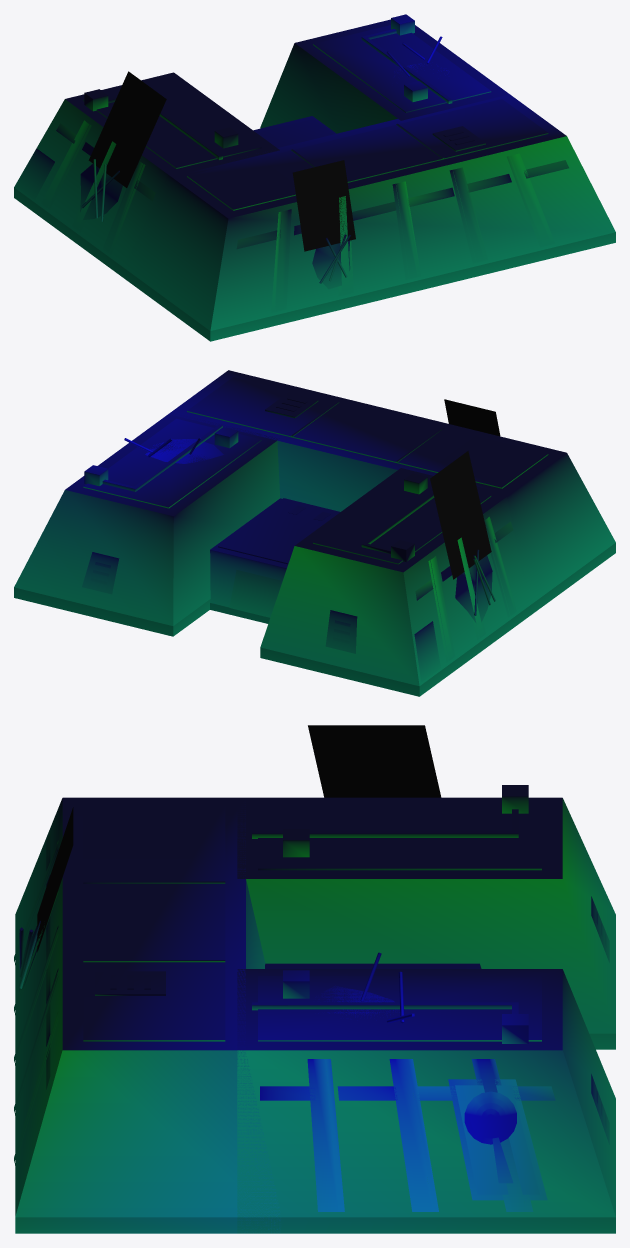
File: hpgoutbldg_damaged.glb
3 renders of one model, top to bottom at view 1: azimuth 30°, elevation 25°; view 2: azimuth 150°, elevation 25°; view 3: azimuth 270°, elevation 25°, orthographic. The views are drawn at different scales.
Visible parts, largest first — view 1: lod0; view 2: lod0; view 3: lod0.
Part boxes in pixels (x1=…): lod0: x1=14, y1=14, x2=615, y2=341; lod0: x1=14, y1=370, x2=615, y2=696; lod0: x1=14, y1=725, x2=615, y2=1233.
Size of what is drawn, in the model's own units: 24.27 by 9.11 by 20.34.
